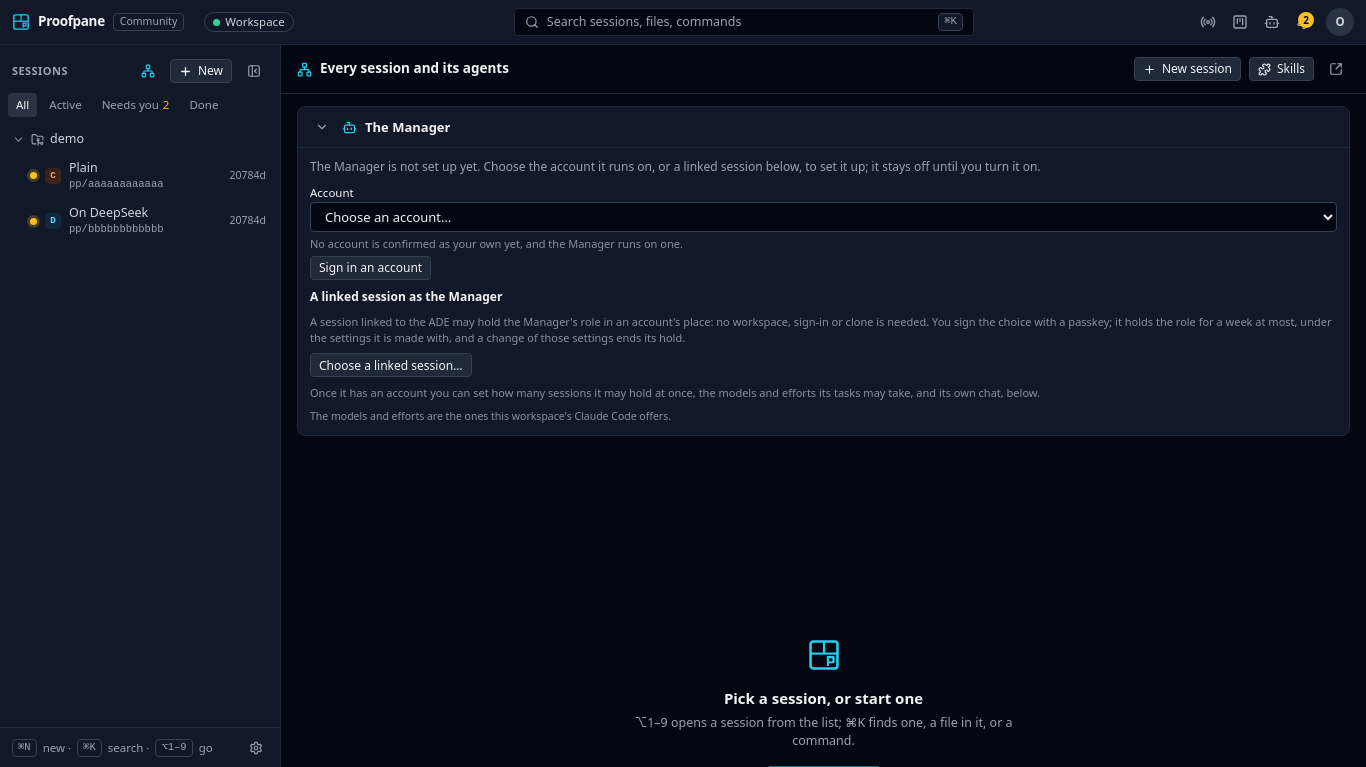
Test: a running Claude Code session's terminal in the app › has Stop and the line under it on a desktop, from the session's own activity and name
Click the text "On DeepSeek" at coordinates (109, 213), box top-left (69, 204), bottom-right (148, 221)
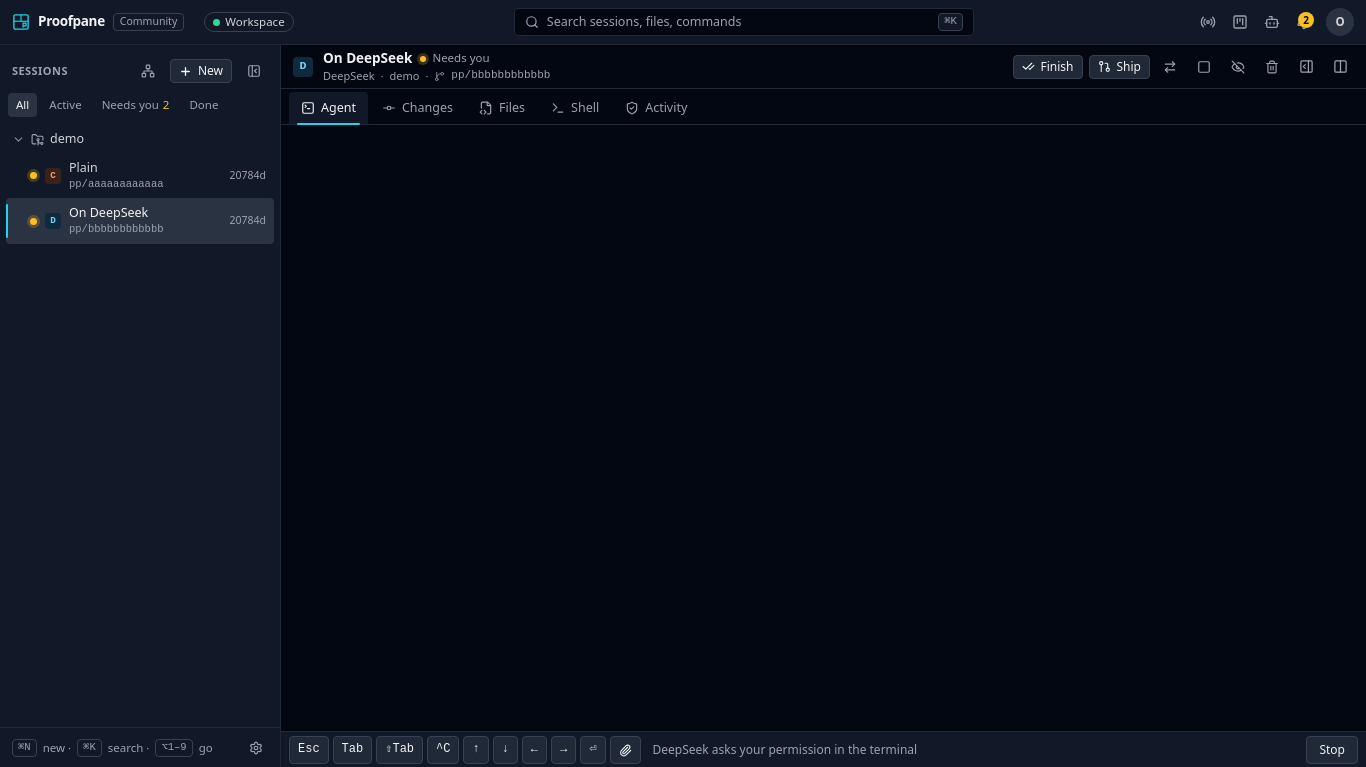
Expected: the button "Stop" is shown, top-left (1306, 736), bottom-right (1358, 764)
Expected: the message reads "DeepSeek asks your permission in the terminal", top-left (652, 741), bottom-right (917, 758)
